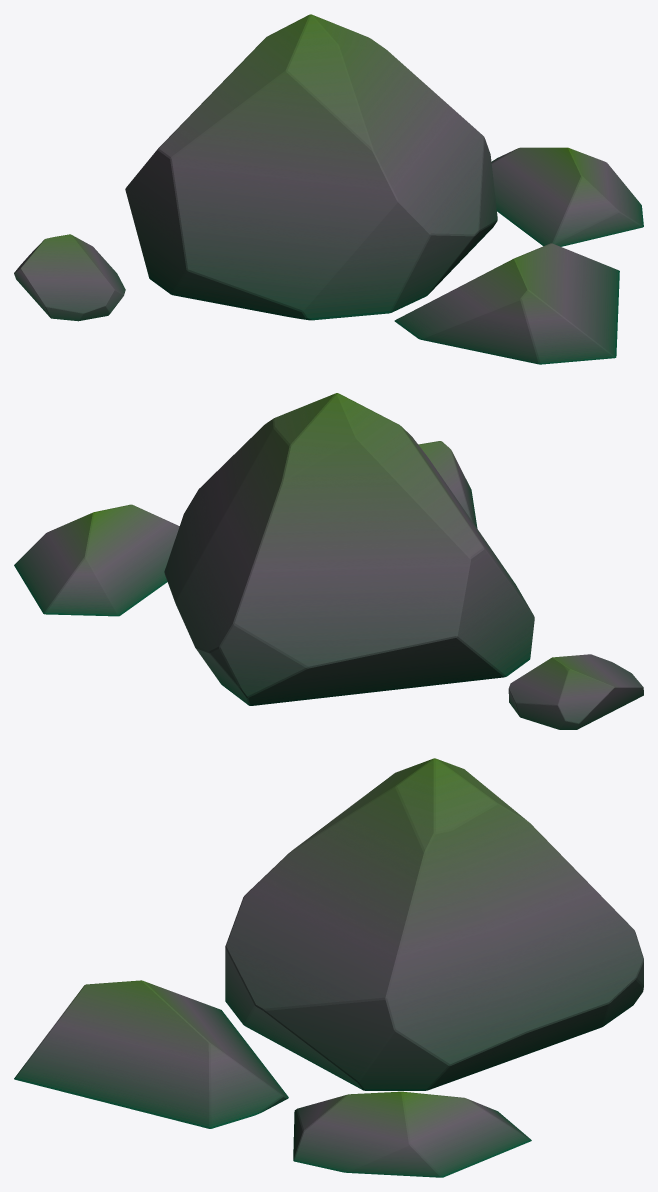
File: ROCKS_01.obj
3 renders of one model, top to bottom at view 1: azimuth 30°, elevation 25°; view 2: azimuth 150°, elevation 25°; view 3: azimuth 270°, elevation 25°, orthographic. The views are drawn at different scales.
Visible parts, largest first — view 1: Gemstone_003; view 2: Gemstone_003; view 3: Gemstone_003.
Boxes of the visible parts, left/top/right/bottom form: Gemstone_003: left=14, top=14, right=643, bottom=364; Gemstone_003: left=14, top=393, right=643, bottom=729; Gemstone_003: left=14, top=758, right=643, bottom=1177.
Bounding box in the file's own units: 10.55 × 4.06 × 9.
Materials: 1 (1 with a texture image).
